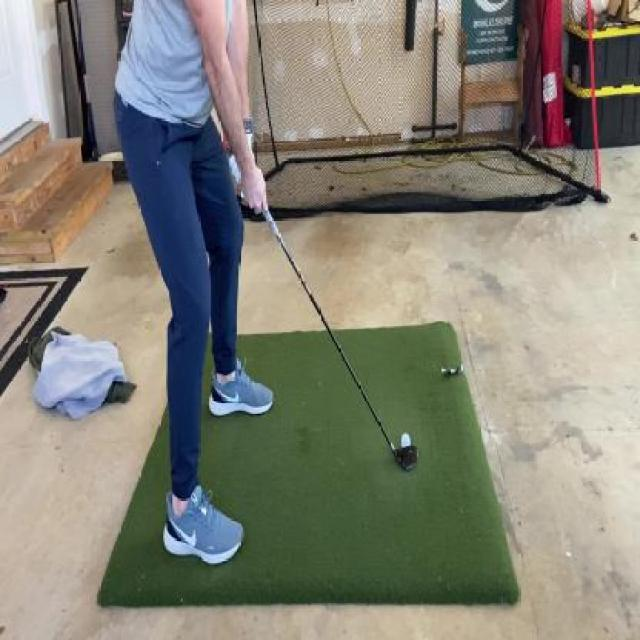club head: (388, 440, 418, 471)
